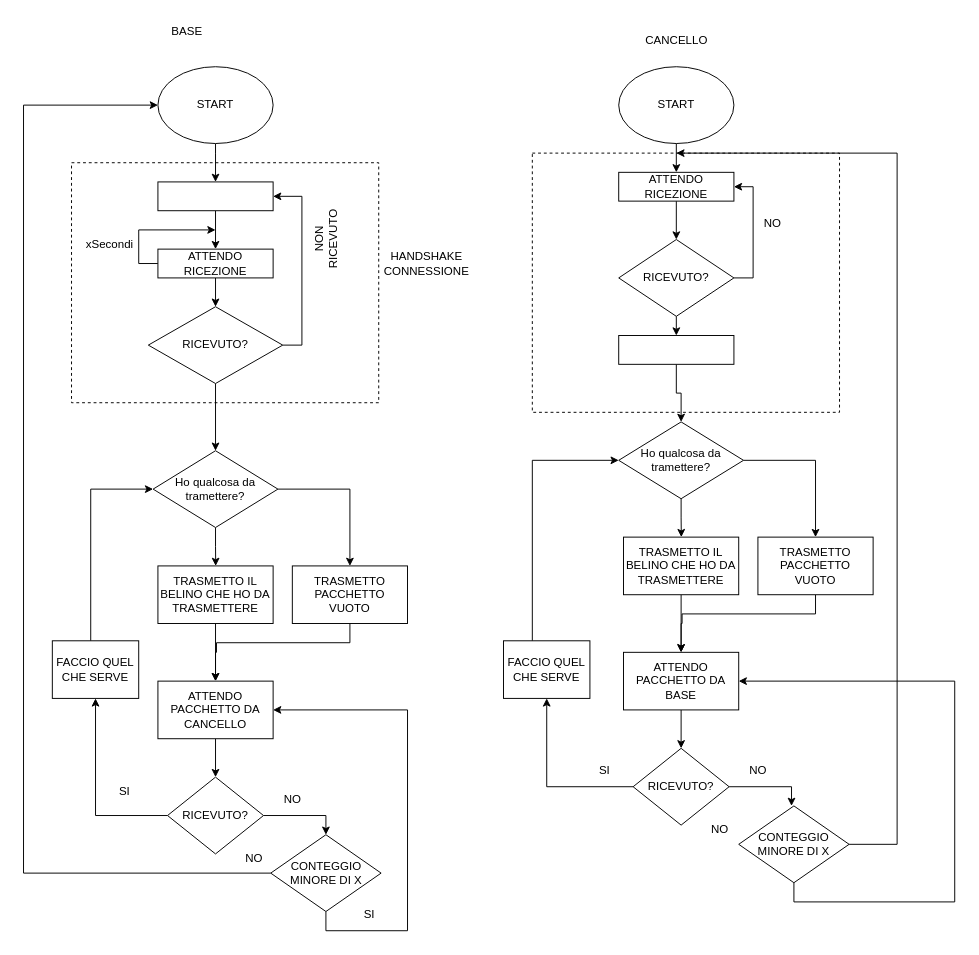
Image size: 979x955. Some labels were removed from this diagram. Each missing label, with the centre of its shape:
"INVIA MESSAGGIO CONNESSO" belongs at point (676, 349).
"INVIO SONO ACCESO" belongs at point (215, 196).
